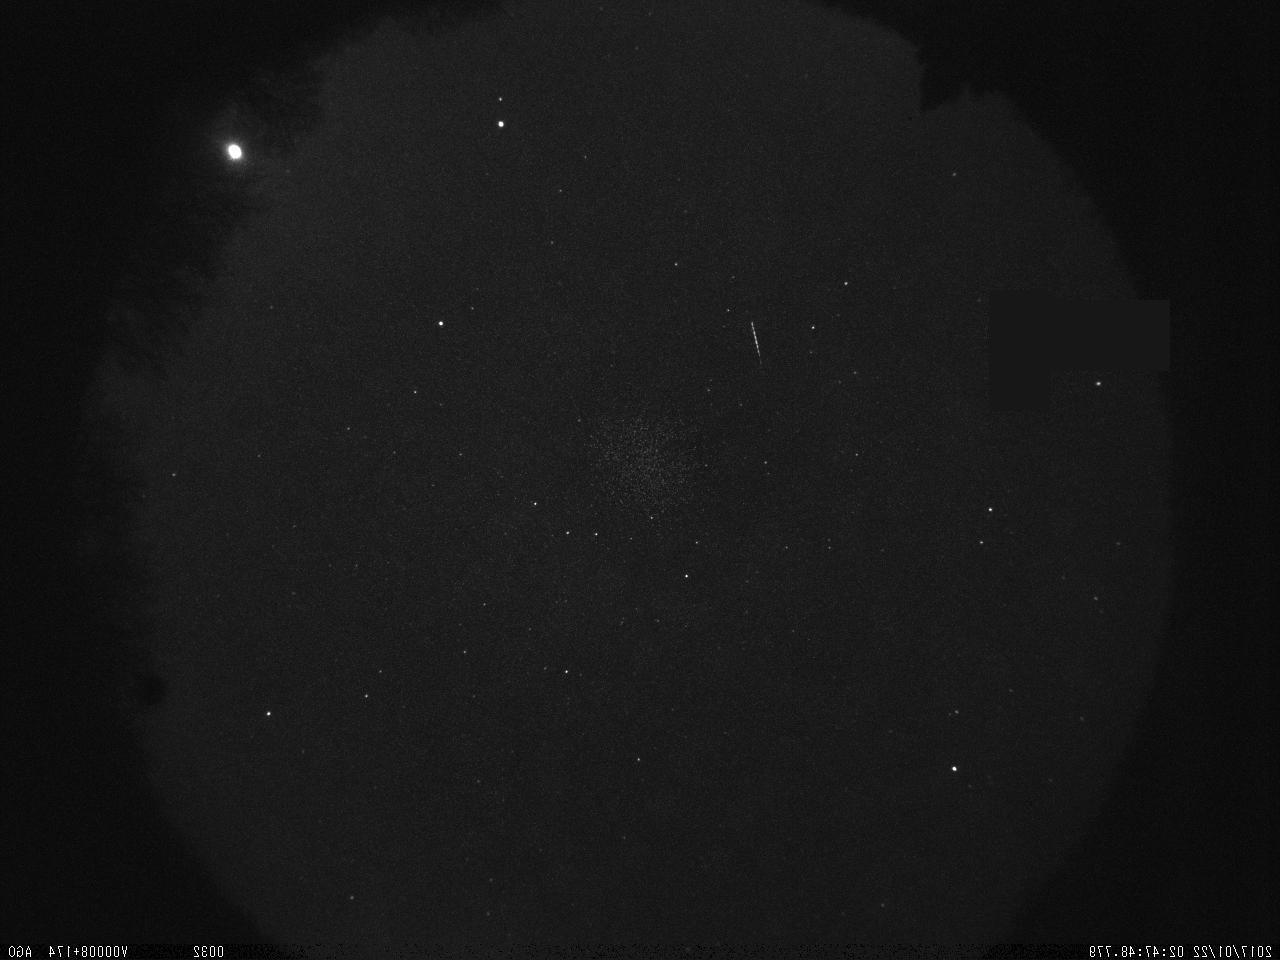meteor: (734, 312, 774, 375)
